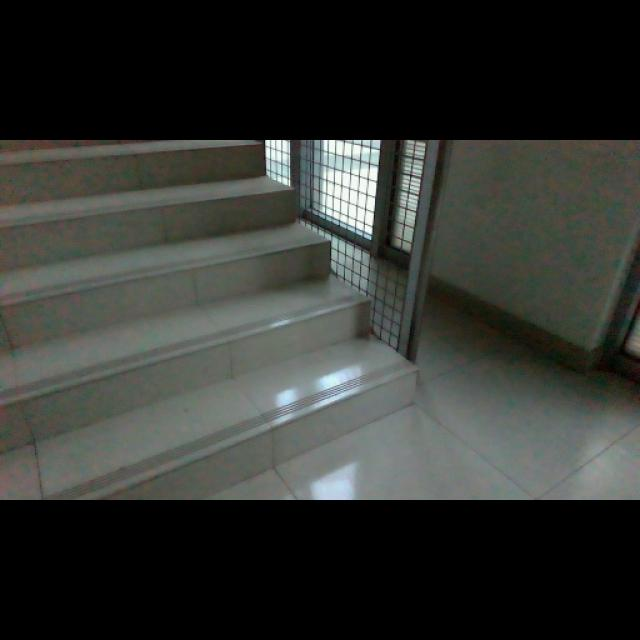stair: (0, 126, 411, 442)
